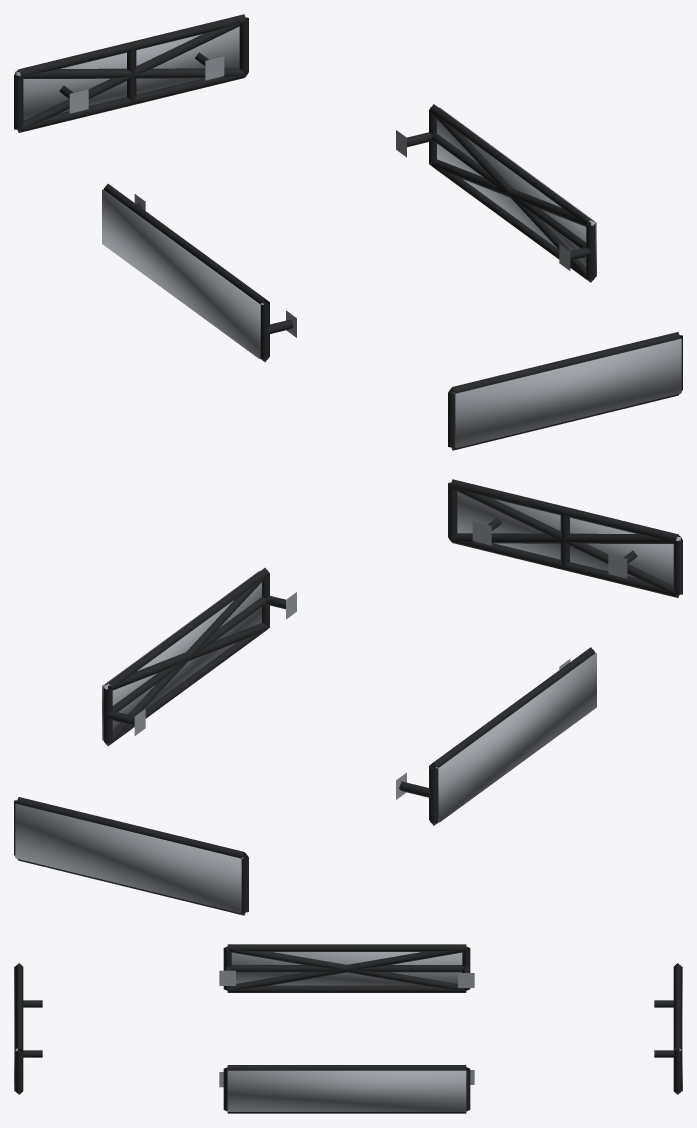
The model's file is volnar_brisa_protecao.glb.
3 views of the same model, one above another, from view 1: azimuth 30°, elevation 25°; view 2: azimuth 150°, elevation 25°; view 3: azimuth 270°, elevation 25° (orthographic). The views are drawn at different scales.
Parts seen in each view (by area): view 1: Protection_front_Level3_Details, Protection_left_Level3_Details, Protection_rear_Level1_Details, Protection_rear_Level3_Details, Protection_right_Level1_Details, Protection_rear_Level2_Details, Protection_right_Level2_Details, Protection_right_Level3_Details, Protection_front_Level1_Details, Protection_left_Level1_Details; view 2: Protection_rear_Level3_Details, Protection_left_Level3_Details, Protection_front_Level1_Details, Protection_front_Level3_Details, Protection_right_Level1_Details, Protection_front_Level2_Details, Protection_right_Level2_Details, Protection_right_Level3_Details, Protection_rear_Level1_Details, Protection_left_Level1_Details; view 3: Protection_right_Level3_Details, Protection_left_Level2_Details, Protection_left_Level1_Details, Protection_left_Level3_Details, Protection_right_Level1_Details, Protection_rear_Level1_Details, Protection_front_Level1_Details.
Part boxes in pixels (x1,y1,x2,y2): Protection_front_Level3_Details: (453,338,681,448); Protection_left_Level3_Details: (102,189,263,358); Protection_rear_Level1_Details: (14,14,248,132); Protection_rear_Level3_Details: (15,26,239,120); Protection_right_Level1_Details: (396,104,595,282); Protection_rear_Level2_Details: (16,21,246,131); Protection_right_Level2_Details: (429,111,594,282); Protection_right_Level3_Details: (437,107,596,276); Protection_front_Level1_Details: (448,332,682,450); Protection_left_Level1_Details: (103,184,296,361); Protection_rear_Level3_Details: (15,803,243,913); Protection_left_Level3_Details: (435,653,596,822); Protection_front_Level1_Details: (448,479,682,597); Protection_front_Level3_Details: (457,491,681,585); Protection_right_Level1_Details: (103,568,296,745); Protection_front_Level2_Details: (450,486,680,596); Protection_right_Level2_Details: (104,574,269,745); Protection_right_Level3_Details: (102,571,261,740); Protection_rear_Level1_Details: (14,797,248,915); Protection_left_Level1_Details: (396,647,595,825); Protection_right_Level3_Details: (227,1070,466,1111); Protection_left_Level2_Details: (227,948,466,990); Protection_left_Level1_Details: (219,944,474,992); Protection_left_Level3_Details: (231,952,462,985); Protection_right_Level1_Details: (219,1065,474,1113); Protection_rear_Level1_Details: (654,963,681,1094); Protection_front_Level1_Details: (15,963,42,1094).
Size of the model in its own units: 1.96 by 0.354 by 4.43.
Materials: 1 (1 with a texture image).
